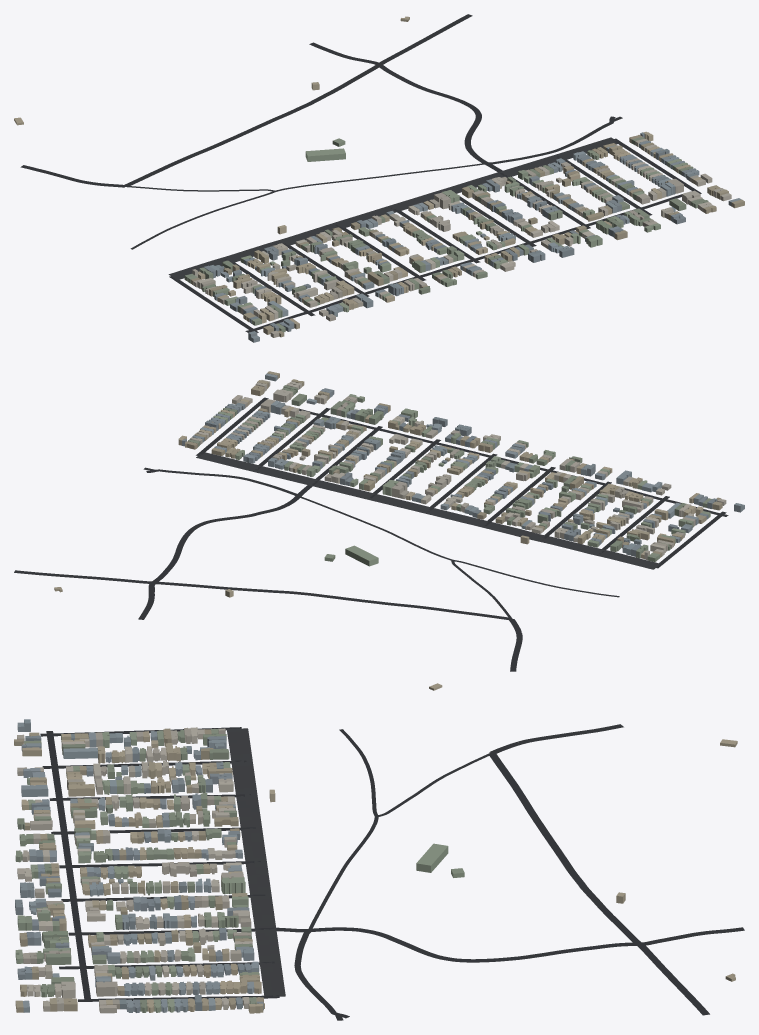
The model's file is tile_2_14.glb.
The picture shows the model from 3 angles, top to bottom: view 1: azimuth 30°, elevation 25°; view 2: azimuth 150°, elevation 25°; view 3: azimuth 270°, elevation 25°; orthographic projection. The views are drawn at different scales.
Visible parts, largest first — view 1: bld_2_14, road_2_14; view 2: bld_2_14, road_2_14; view 3: bld_2_14, road_2_14.
Part boxes in pixels (box(x1,y1,x2,y2)): bld_2_14: box(14, 16, 744, 342); road_2_14: box(20, 14, 701, 332); bld_2_14: box(54, 371, 744, 690); road_2_14: box(14, 397, 728, 671); bld_2_14: box(14, 719, 737, 1013); road_2_14: box(40, 724, 744, 1020).
Size of the model in its own units: 815 by 37.41 by 812.
